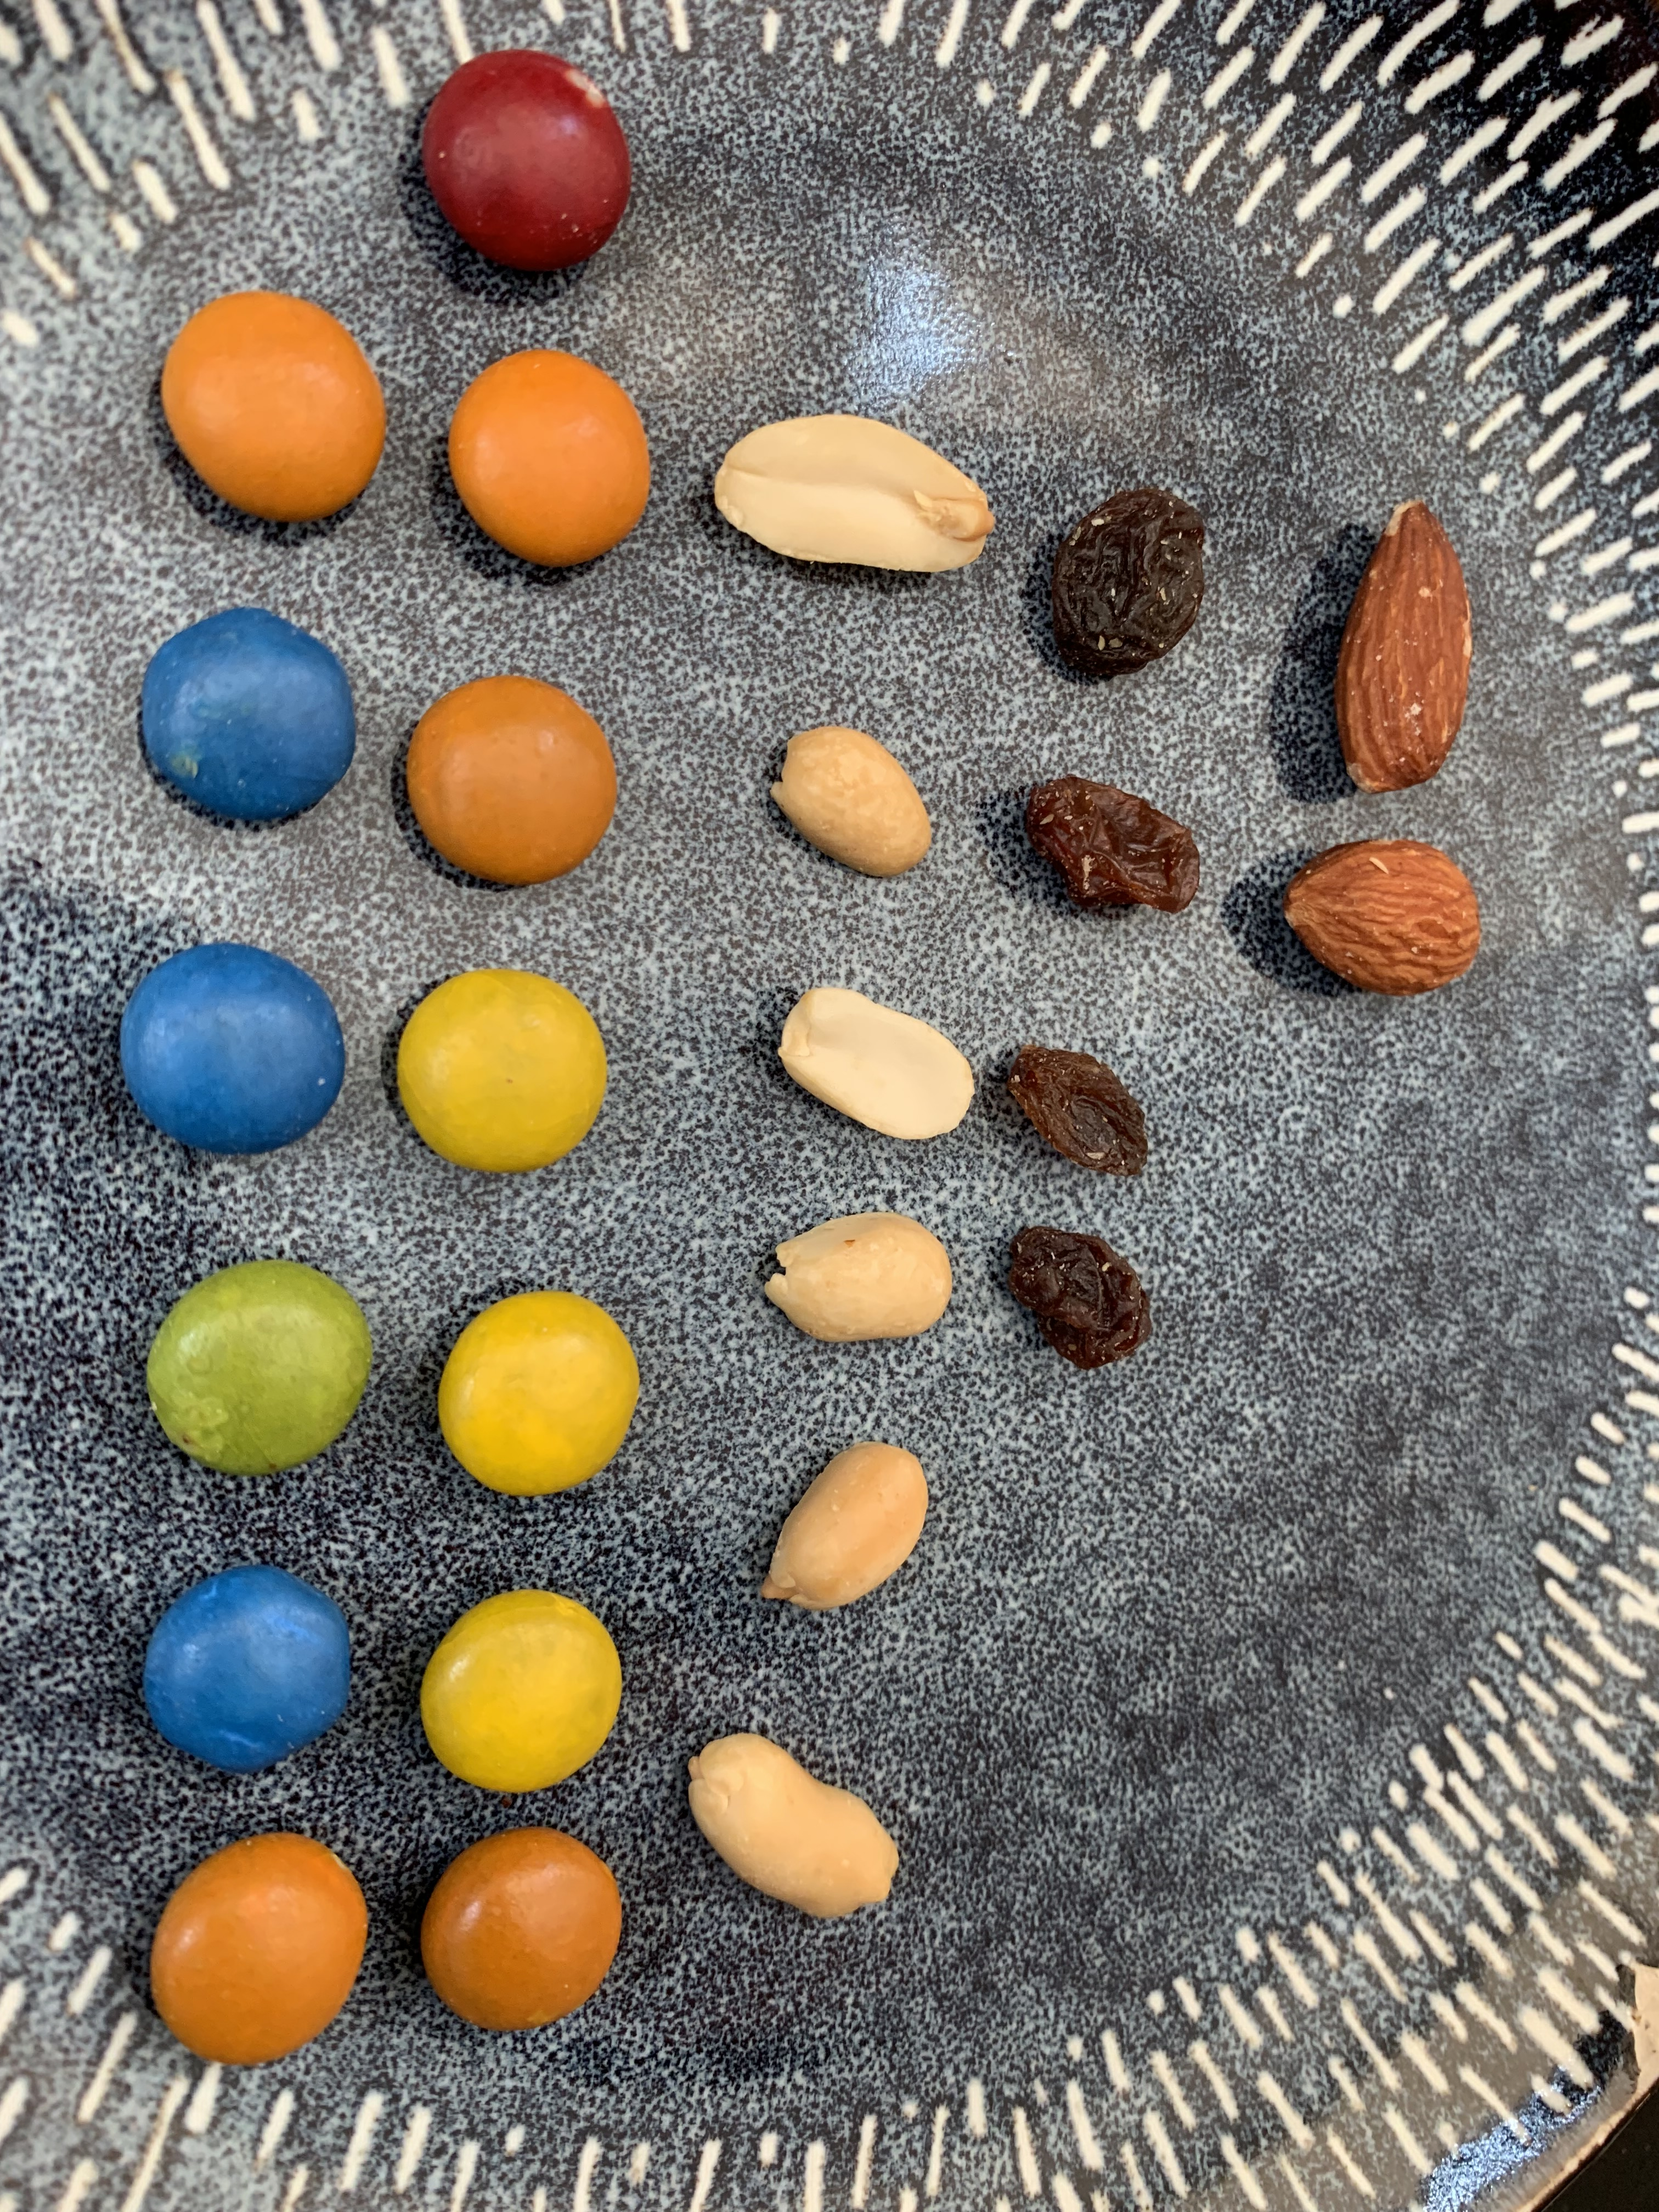almond: (1328, 496, 1476, 792), (1277, 838, 1483, 998)
mm: (157, 287, 382, 526), (150, 1832, 368, 2073), (145, 1258, 371, 1479), (119, 942, 349, 1155), (444, 345, 653, 573), (139, 608, 354, 826), (404, 672, 619, 890), (423, 47, 633, 270), (394, 970, 606, 1181), (416, 1825, 624, 2041), (141, 1566, 352, 1773), (437, 1289, 643, 1496), (420, 1588, 619, 1794)
peanut: (709, 413, 999, 587), (687, 1730, 901, 1918), (775, 984, 974, 1141), (760, 1442, 931, 1611), (765, 1211, 951, 1345), (772, 723, 931, 876)
raisin: (1047, 486, 1209, 679), (1019, 775, 1199, 916), (1009, 1221, 1159, 1371), (1006, 1043, 1150, 1183)
